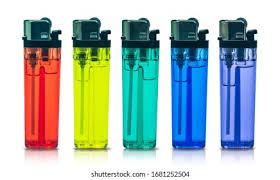lighter: (219, 16, 258, 152), (73, 16, 112, 149), (172, 16, 210, 149), (122, 15, 159, 151), (25, 19, 59, 151)
